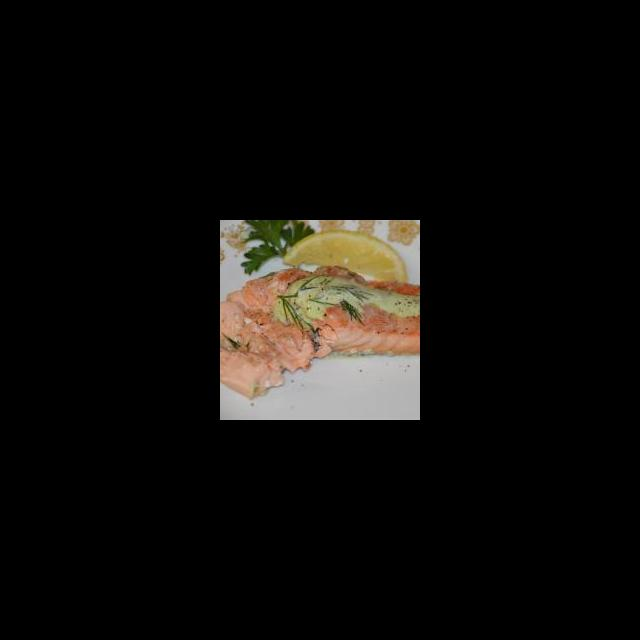ca hoi: (220, 262, 420, 402)
